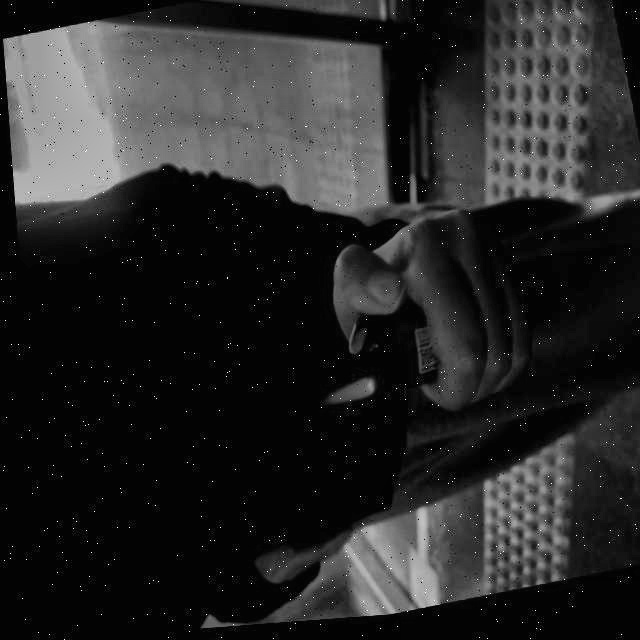Fire: (301, 374, 372, 413)
